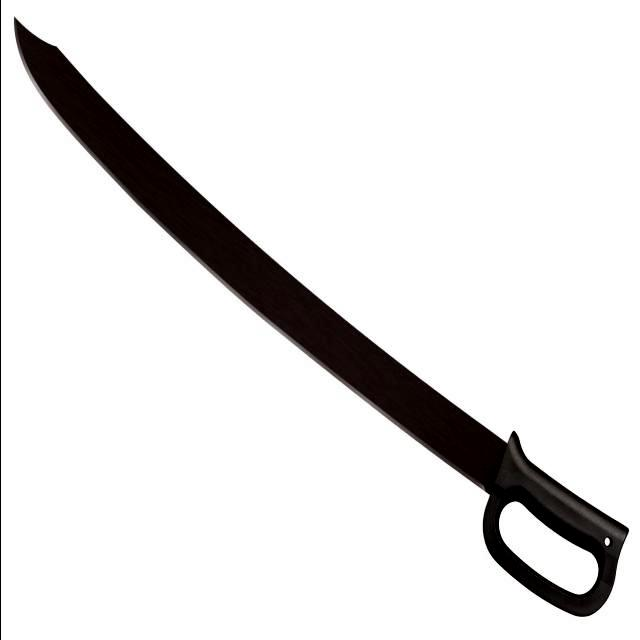long knife: (11, 16, 621, 608)
